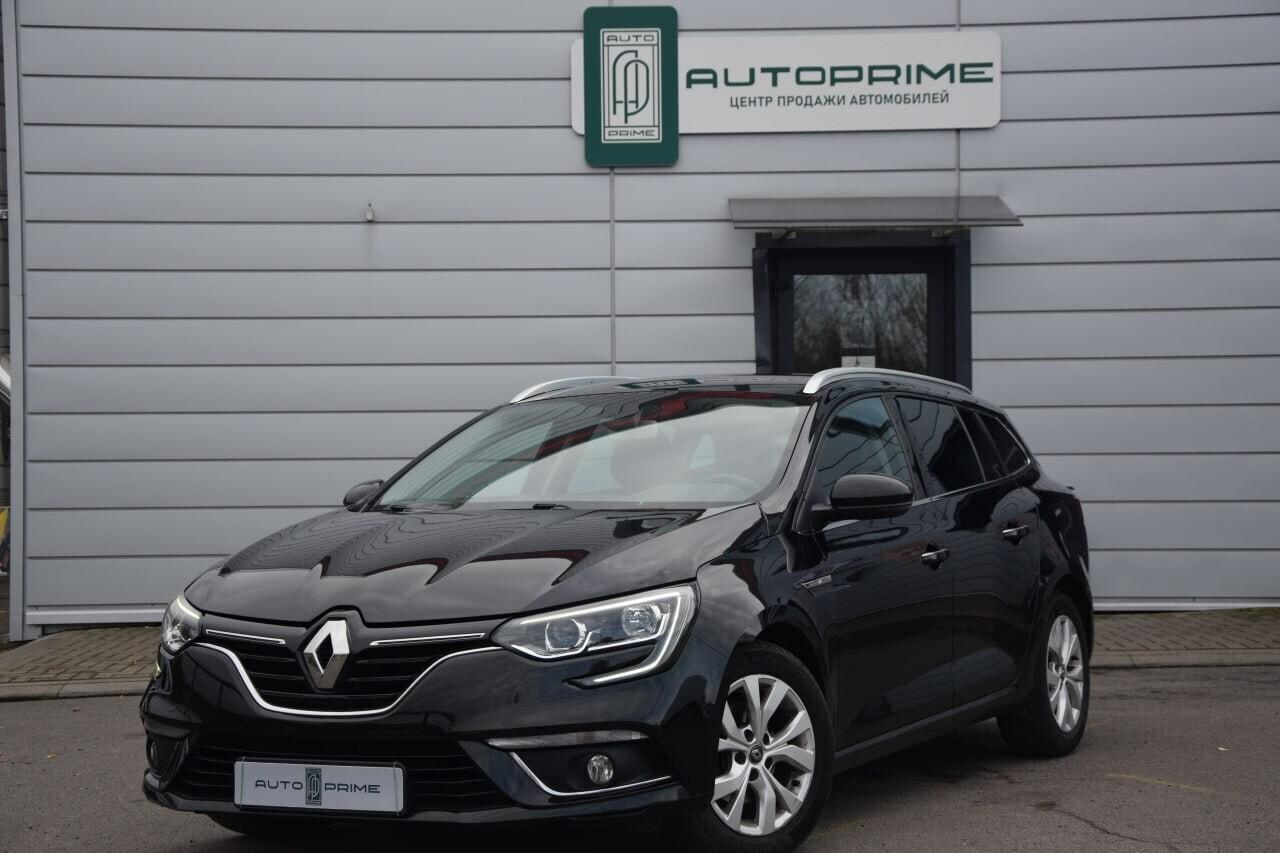Megane_2016-2020: (136, 368, 1101, 853)
